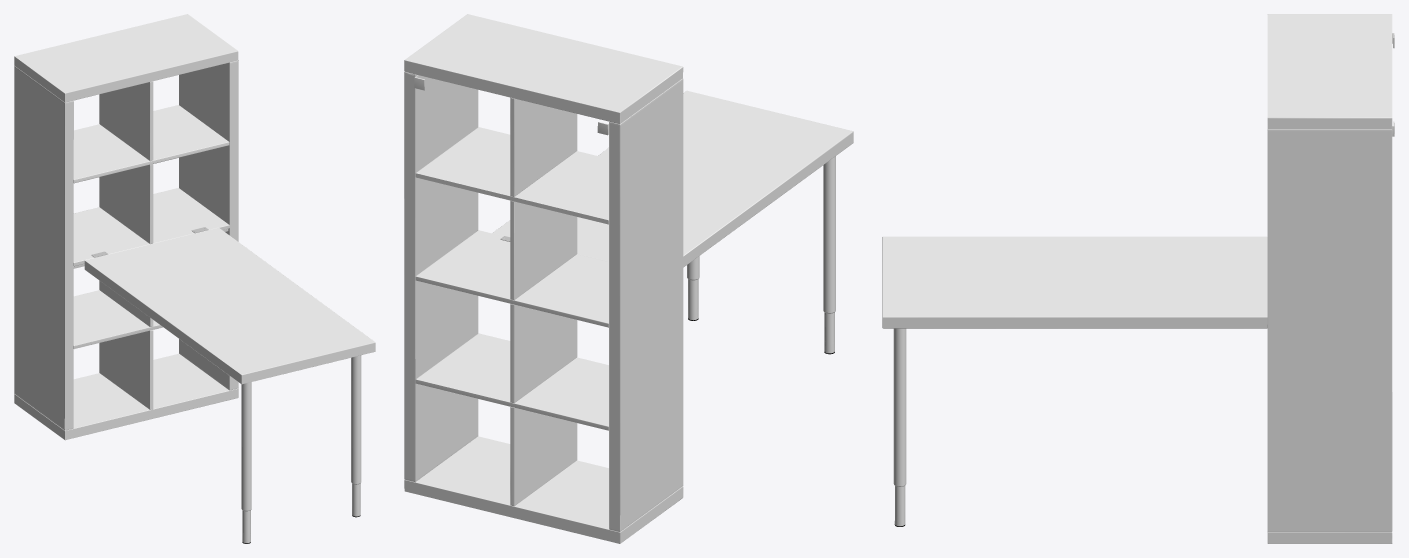
The model's file is kallax_lagkapten_biurko_29481659.glb.
3 renders of one model, left to right at view 1: azimuth 30°, elevation 25°; view 2: azimuth 150°, elevation 25°; view 3: azimuth 270°, elevation 25°, orthographic. The views are drawn at different scales.
Visible parts, largest first — view 1: kallax_lagkapten_biurko_29481659; view 2: kallax_lagkapten_biurko_29481659; view 3: kallax_lagkapten_biurko_29481659.
Boxes of the visible parts, x1=… form: kallax_lagkapten_biurko_29481659: x1=14, y1=14, x2=375, y2=543; kallax_lagkapten_biurko_29481659: x1=404, y1=14, x2=853, y2=543; kallax_lagkapten_biurko_29481659: x1=882, y1=14, x2=1394, y2=543.
Size of the model in its own units: 0.7701 by 1.47 by 1.6.
Materials: 1 (1 with a texture image).
